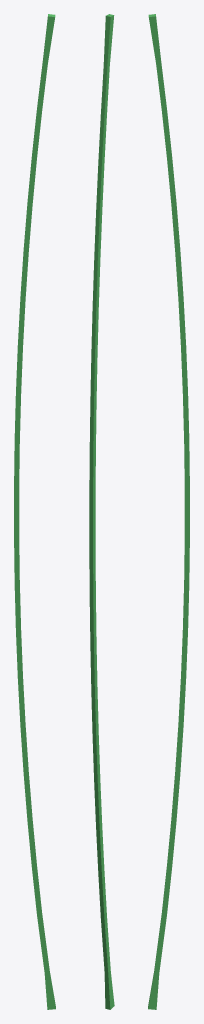
The model's file is jungle_slime_C.fbx.
3 renders of one model, left to right at view 1: azimuth 90°, elevation 25°; view 2: azimuth 150°, elevation 25°; view 3: azimuth 270°, elevation 25°, orthographic.
Visible parts, largest first — view 1: jungle_slime_C; view 2: jungle_slime_C; view 3: jungle_slime_C.
Part boxes in pixels (box(x1,y1,x2,y2)): jungle_slime_C: box(14, 14, 55, 1009); jungle_slime_C: box(89, 14, 114, 1009); jungle_slime_C: box(148, 14, 189, 1009).
Bounding box in the file's own units: 3.58 × 683 × 26.14.
